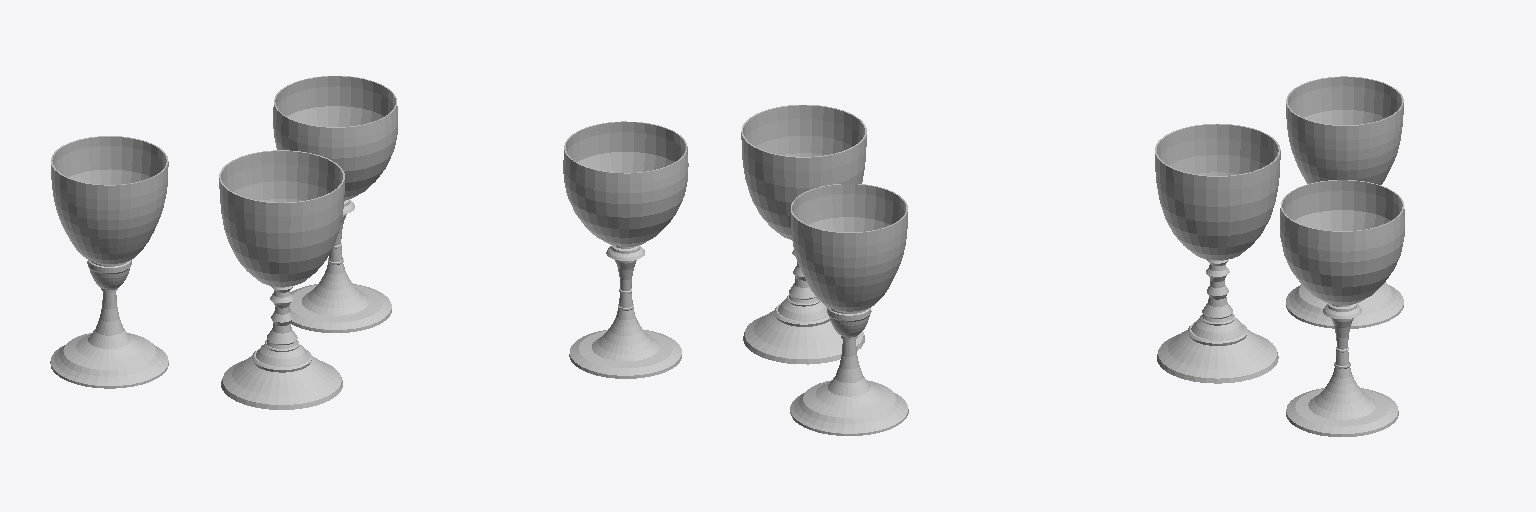
Rendered from brass_goblets_2k.obj.
3 views of the same model, side by side, from view 1: azimuth 30°, elevation 25°; view 2: azimuth 150°, elevation 25°; view 3: azimuth 270°, elevation 25° (orthographic).
Parts seen in each view (by area): view 1: brass_goblet_01, brass_goblet_02, brass_goblet_03; view 2: brass_goblet_02, brass_goblet_03, brass_goblet_01; view 3: brass_goblet_01, brass_goblet_03, brass_goblet_02.
Part boxes in pixels (x1,y1,x2,y2): brass_goblet_01: (219,150,344,409); brass_goblet_02: (50,136,168,388); brass_goblet_03: (273,76,397,332); brass_goblet_02: (790,184,908,435); brass_goblet_03: (563,121,688,378); brass_goblet_01: (741,105,866,364); brass_goblet_01: (1155,124,1280,383); brass_goblet_03: (1280,180,1404,436); brass_goblet_02: (1286,76,1403,328).
Bounding box in the file's own units: 1.81 × 1.09 × 1.19.